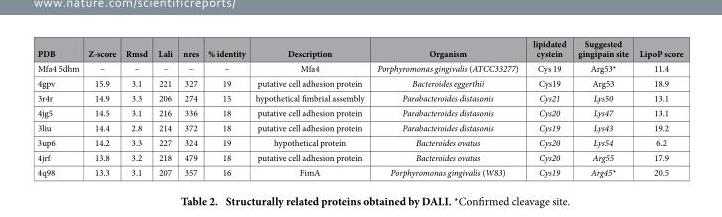table: (36, 37, 682, 178)
table column: (370, 37, 525, 178), (249, 37, 370, 178), (571, 37, 633, 178), (633, 37, 682, 178), (36, 37, 83, 178), (202, 37, 249, 178), (525, 37, 571, 178), (83, 37, 120, 178), (120, 37, 152, 178), (152, 37, 177, 178), (177, 37, 202, 178)
table column header: (36, 37, 682, 60)
table row: (36, 37, 682, 60), (36, 60, 682, 75), (36, 75, 682, 90), (36, 90, 682, 105), (36, 119, 682, 134), (36, 134, 682, 149), (36, 149, 682, 164), (36, 105, 682, 119), (36, 164, 682, 178)
